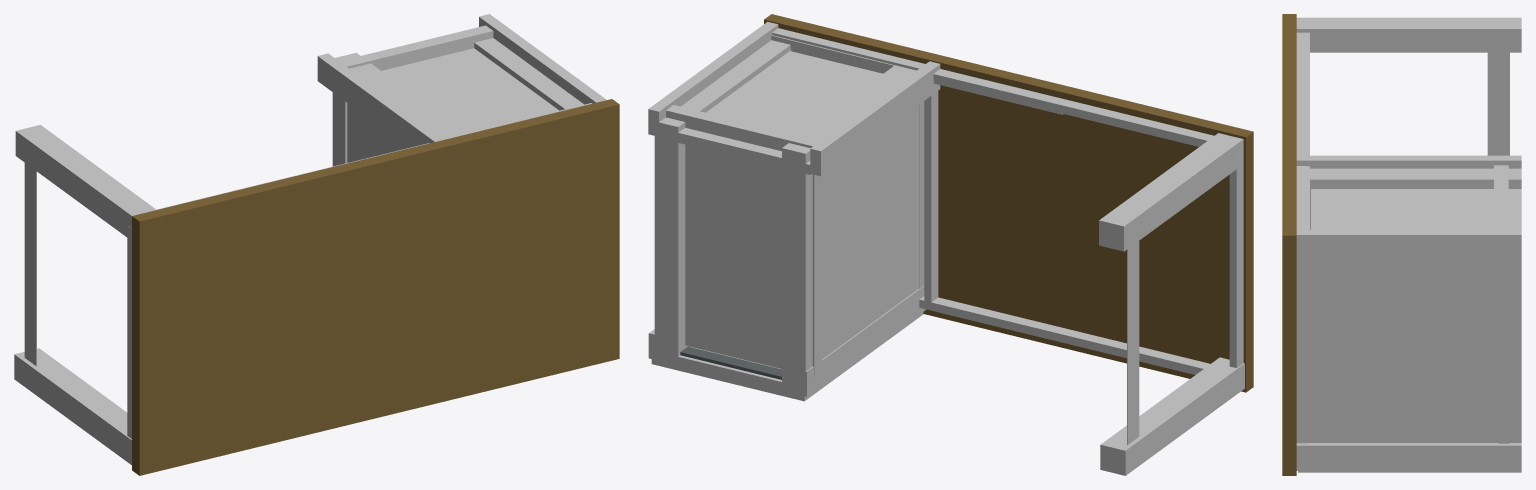
Rendered from tinker.obj.
The picture shows the model from 3 angles, left to right: view 1: azimuth 30°, elevation 25°; view 2: azimuth 150°, elevation 25°; view 3: azimuth 270°, elevation 25°; orthographic projection. The views are drawn at different scales.
Parts seen in each view (by area): view 1: group_0_8414775, group_0_0; view 2: group_0_0, group_0_8414775, group_0_6383466; view 3: group_0_0, group_0_8414775.
Boxes of the visible parts, <box> form: group_0_8414775: <box>132,99,619,475</box>; group_0_0: <box>14,14,606,464</box>; group_0_0: <box>648,21,1244,475</box>; group_0_8414775: <box>764,14,1253,392</box>; group_0_6383466: <box>680,346,781,379</box>; group_0_0: <box>1296,17,1521,472</box>; group_0_8414775: <box>1282,14,1296,475</box>.
Size of the model in its own units: 401 by 203 by 183.
